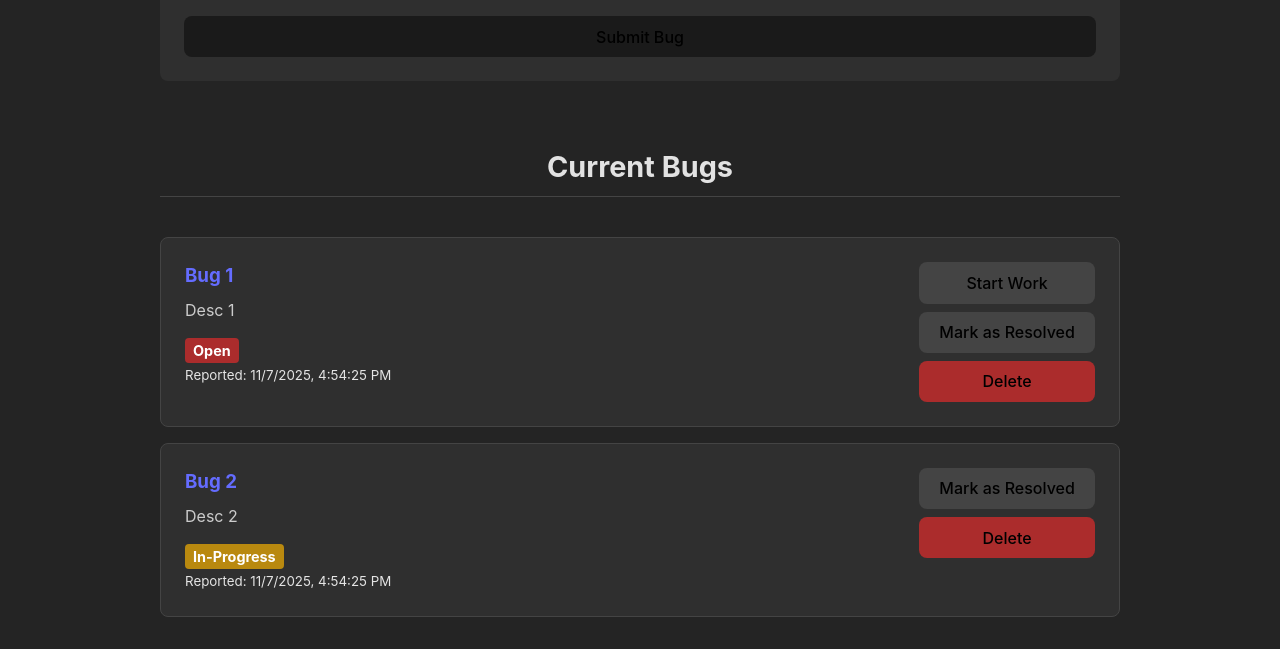
it: App › deletes a bug when delete button is clicked
(page scrolled)
Expected: the heading "Bug 1" is shown, [185,264,233,287]
Expected: the heading "Bug 2" is shown, [185,470,237,493]
Click the delete button
Click the 1st button with class "delete-btn". click: (1007, 381)
box: [919,361,1095,402]
(page scrolled)
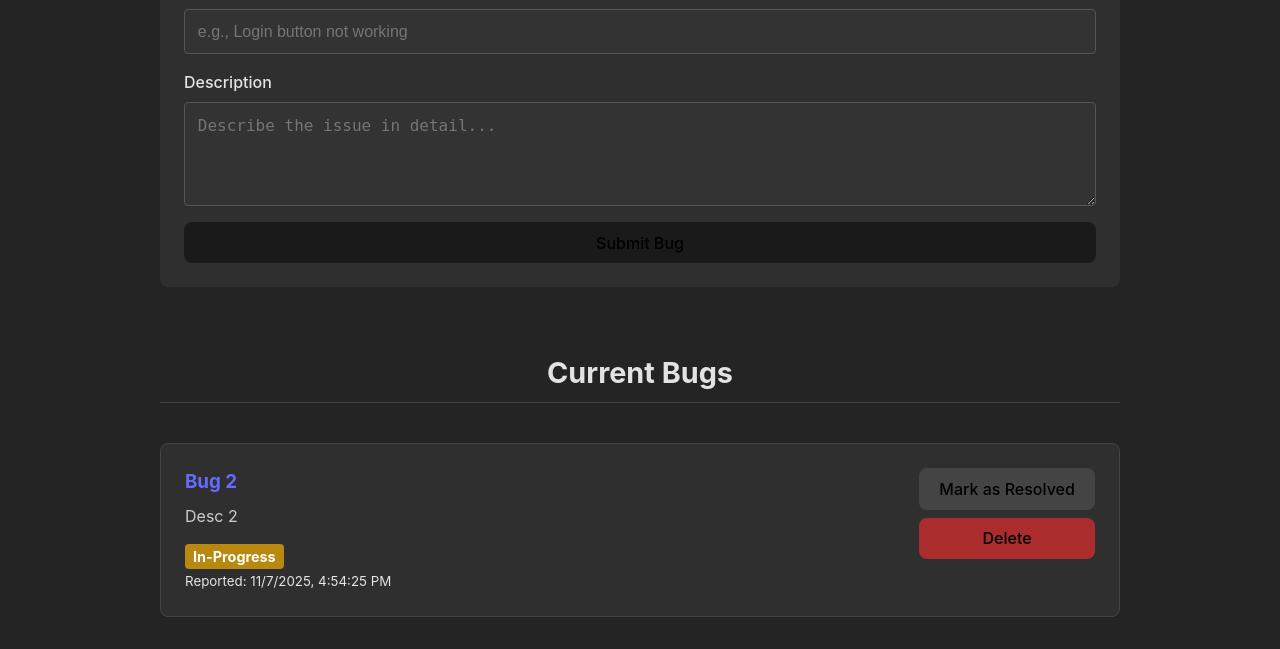
Expected: the heading "Bug 2" is shown, [185,470,237,493]
Expected: the heading "Bug 1" is gone
